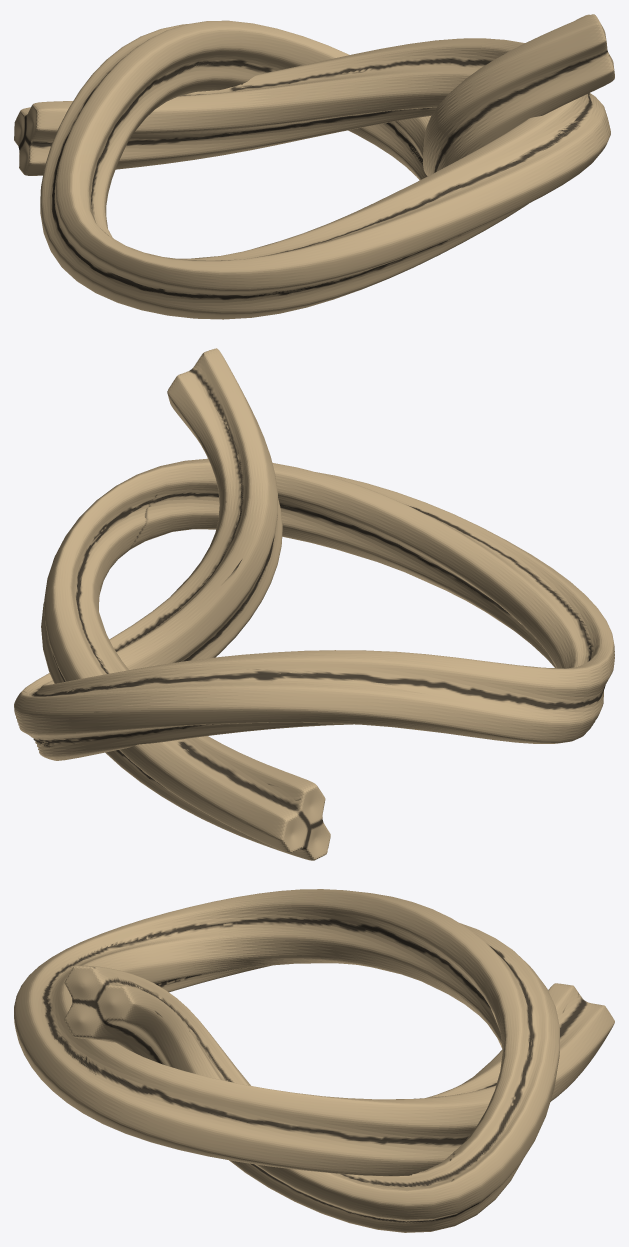
The model's file is ExportedBlenderFBXFile.fbx.
3 renders of one model, top to bottom at view 1: azimuth 30°, elevation 25°; view 2: azimuth 150°, elevation 25°; view 3: azimuth 270°, elevation 25°, orthographic. The views are drawn at different scales.
Parts seen in each view (by area): view 1: Jute_Rope; view 2: Jute_Rope; view 3: Jute_Rope.
Part boxes in pixels (left/top/right/bottom): Jute_Rope: left=14, top=14, right=614, bottom=319; Jute_Rope: left=14, top=348, right=614, bottom=860; Jute_Rope: left=14, top=889, right=614, bottom=1232.
Size of the model in its own units: 0.6176 by 0.3121 by 0.6129.
